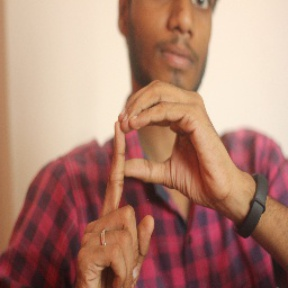P: (70, 79, 225, 281)
